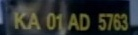character: (66, 12, 79, 31), (13, 11, 26, 29), (27, 12, 40, 29), (79, 11, 90, 30), (45, 12, 56, 30), (119, 12, 128, 31), (97, 12, 106, 29), (105, 12, 113, 30), (112, 12, 120, 30), (55, 13, 62, 30)
